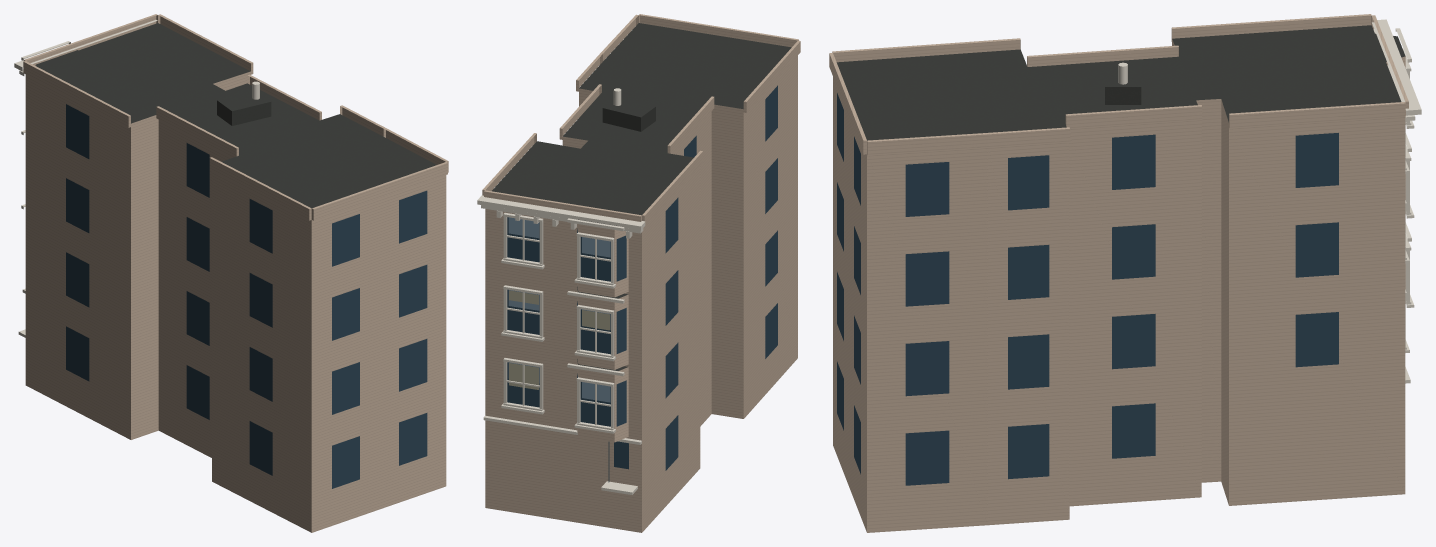
The picture shows the model from 3 angles, left to right: view 1: azimuth 30°, elevation 25°; view 2: azimuth 150°, elevation 25°; view 3: azimuth 270°, elevation 25°; orthographic projection. The views are drawn at different scales.
Visible parts, largest first — view 1: Footprint 0 / surface 2, Footprint 0 / surface 1, Inset glazing, Facade bay volumes, Cornices and window frames, Inferred rooftop service enclosure / surface 5, Inferred rooftop service enclosure / surface 3; view 2: Footprint 0 / surface 2, Footprint 0 / surface 1, Inset glazing, Facade bay volumes, Cornices and window frames, Sky reflection panels, Interior blind variation, Inferred rooftop service enclosure / surface 6, Inferred rooftop service enclosure / surface 3; view 3: Footprint 0 / surface 2, Inset glazing, Footprint 0 / surface 1, Facade bay volumes, Cornices and window frames.
Boxes of the visible parts, x1=… form: Footprint 0 / surface 2: x1=25, y1=71, x2=446, y2=532; Footprint 0 / surface 1: x1=35, y1=23, x2=436, y2=208; Inset glazing: x1=66, y1=104, x2=427, y2=488; Facade bay volumes: x1=23, y1=14, x2=448, y2=220; Cornices and window frames: x1=14, y1=20, x2=157, y2=337; Inferred rooftop service enclosure / surface 5: x1=232, y1=102, x2=271, y2=125; Inferred rooftop service enclosure / surface 3: x1=217, y1=91, x2=270, y2=111; Footprint 0 / surface 2: x1=485, y1=55, x2=797, y2=532; Footprint 0 / surface 1: x1=492, y1=23, x2=791, y2=215; Inset glazing: x1=507, y1=85, x2=777, y2=470; Facade bay volumes: x1=482, y1=14, x2=800, y2=442; Cornices and window frames: x1=477, y1=195, x2=645, y2=494; Sky reflection panels: x1=508, y1=217, x2=610, y2=402; Interior blind variation: x1=509, y1=290, x2=610, y2=389; Inferred rooftop service enclosure / surface 6: x1=602, y1=108, x2=640, y2=131; Inferred rooftop service enclosure / surface 3: x1=603, y1=98, x2=655, y2=117; Footprint 0 / surface 2: x1=833, y1=39, x2=1405, y2=532; Inset glazing: x1=837, y1=93, x2=1338, y2=485; Footprint 0 / surface 1: x1=836, y1=25, x2=1401, y2=140; Facade bay volumes: x1=829, y1=14, x2=1408, y2=288; Cornices and window frames: x1=1372, y1=19, x2=1421, y2=383.
Size of the model in its own units: 10.07 by 15.17 by 19.45.
